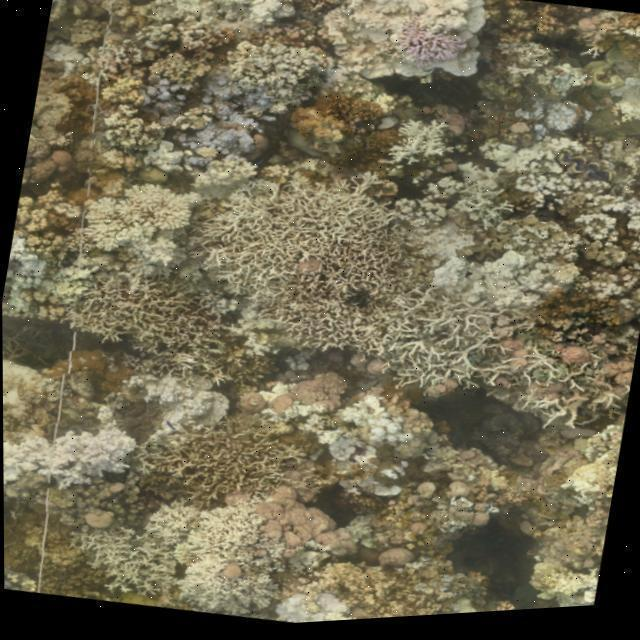Bleached Coral: (392, 189, 582, 326), (146, 498, 287, 629), (75, 173, 200, 278), (3, 411, 138, 499), (119, 361, 237, 453), (183, 59, 272, 170), (333, 0, 488, 54), (336, 389, 417, 461), (280, 590, 372, 627), (131, 64, 188, 121), (175, 0, 297, 26), (522, 95, 579, 150)
